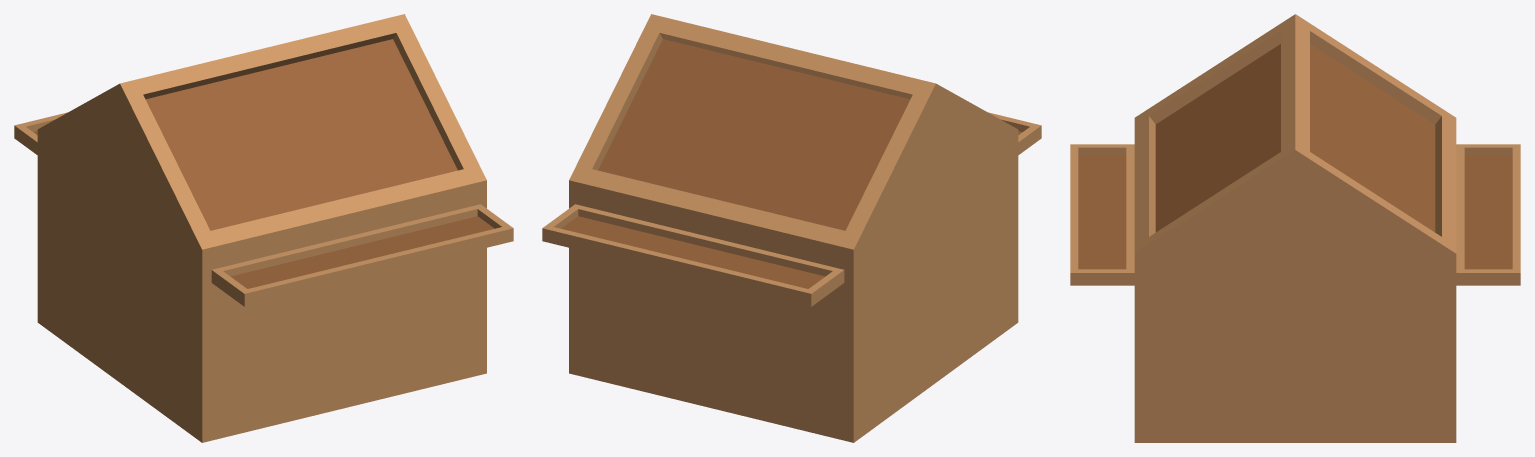
File: Stand_Empty_Wood.fbx
3 renders of one model, left to right at view 1: azimuth 30°, elevation 25°; view 2: azimuth 150°, elevation 25°; view 3: azimuth 270°, elevation 25°, orthographic. The views are drawn at different scales.
Parts seen in each view (by area): view 1: Stand_Empty_Wood; view 2: Stand_Empty_Wood; view 3: Stand_Empty_Wood.
Boxes of the visible parts, x1,y1,x2,y2 form: Stand_Empty_Wood: (14,14,513,442); Stand_Empty_Wood: (542,14,1041,442); Stand_Empty_Wood: (1070,14,1520,442).
Size of the model in its own units: 115 by 116 by 162.
